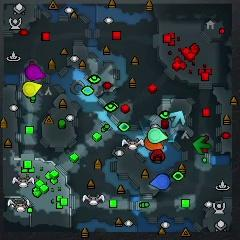p1: (149, 173, 170, 190)
p2: (148, 128, 167, 144)
p3: (25, 65, 45, 82)
p4: (23, 81, 42, 97)
p5: (144, 136, 164, 151)
x3: (168, 110, 186, 128)
x4: (194, 136, 210, 154)
